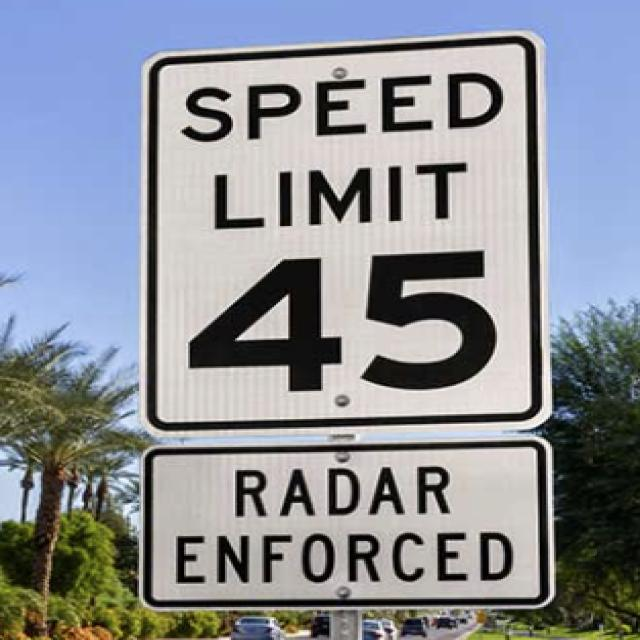speedLimit45: (154, 54, 528, 423)
